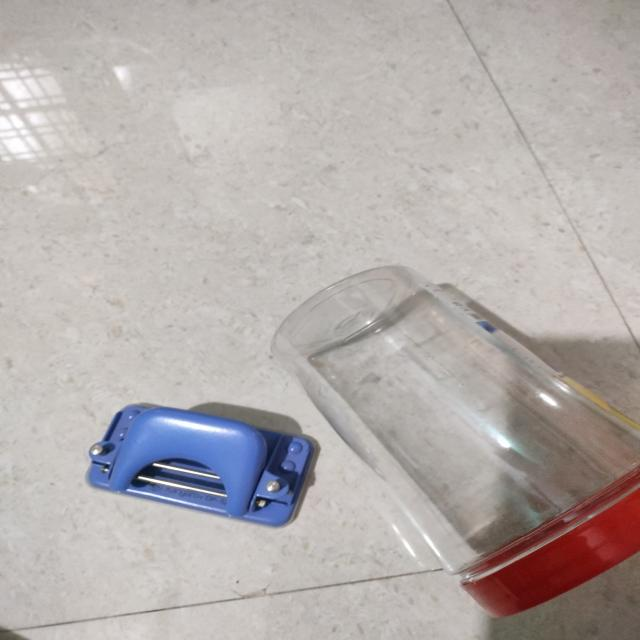metal: (0, 403, 323, 638)
plastic: (351, 302, 640, 631)
